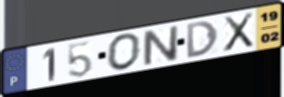1: (42, 47, 57, 82)
5: (66, 39, 95, 78)
D: (185, 19, 220, 60)
N: (141, 24, 180, 67)
O: (105, 31, 143, 72)
X: (221, 11, 255, 54)
